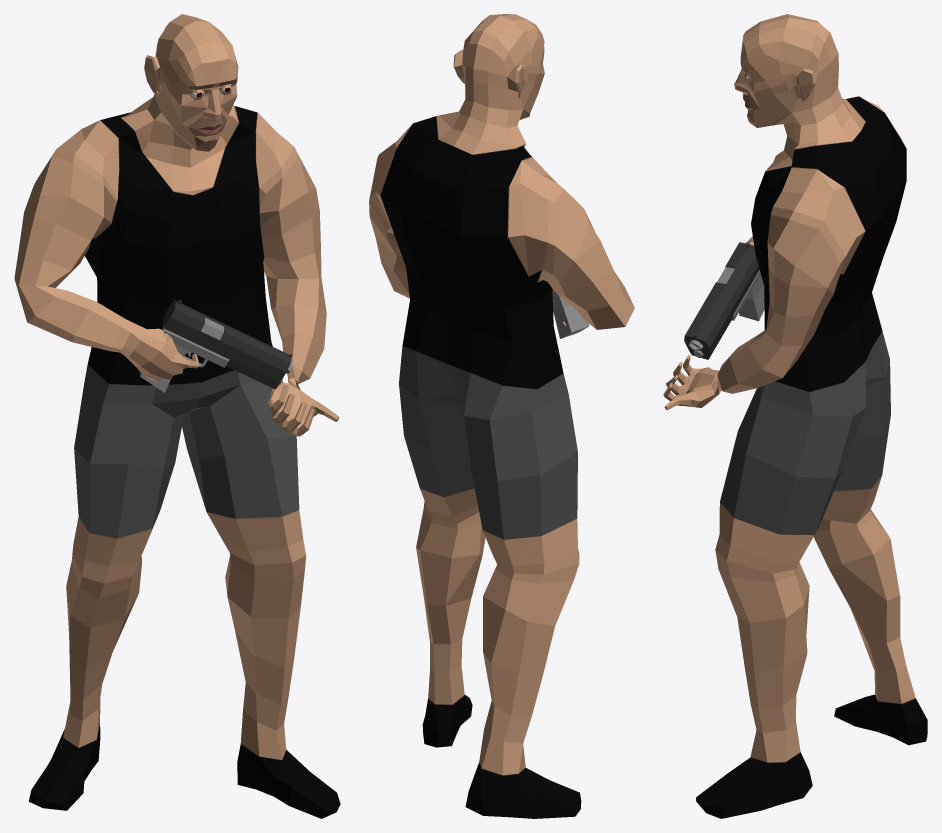
Rendered from PlayerIdle(83).obj.
3 views of the same model, side by side, from view 1: azimuth 30°, elevation 25°; view 2: azimuth 150°, elevation 25°; view 3: azimuth 270°, elevation 25° (orthographic). The views are drawn at different scales.
Visible parts, largest first — view 1: Plane002, Box003; view 2: Plane002, Box003; view 3: Plane002, Box003.
Boxes of the visible parts, x1,y1,x2,y2 form: Plane002: (14, 14, 340, 818); Box003: (139, 300, 292, 392); Plane002: (369, 14, 634, 818); Box003: (552, 289, 589, 338); Plane002: (663, 14, 927, 818); Box003: (684, 242, 764, 359).
Size of the model in its own units: 670 by 1800 by 574.
